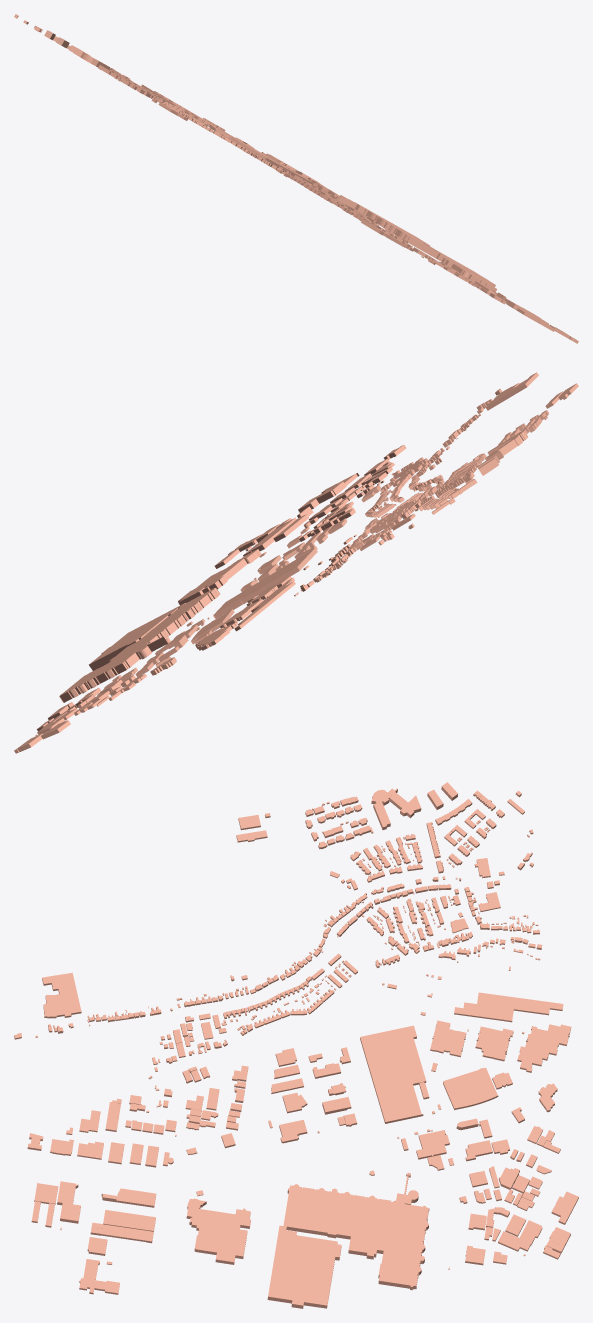
3 views of the same model, one above another, from view 1: azimuth 30°, elevation 25°; view 2: azimuth 150°, elevation 25°; view 3: azimuth 270°, elevation 25° (orthographic). The views are drawn at different scales.
Bounding box in the file's own units: 1080 × 813 × 1270.
